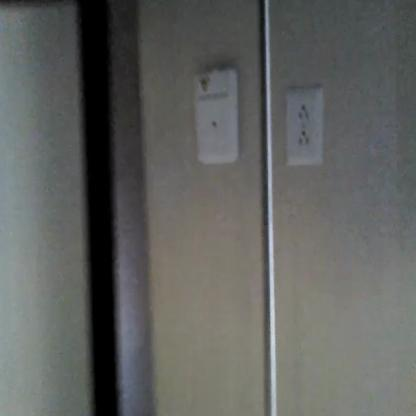OUTLET: (286, 85, 324, 168)
